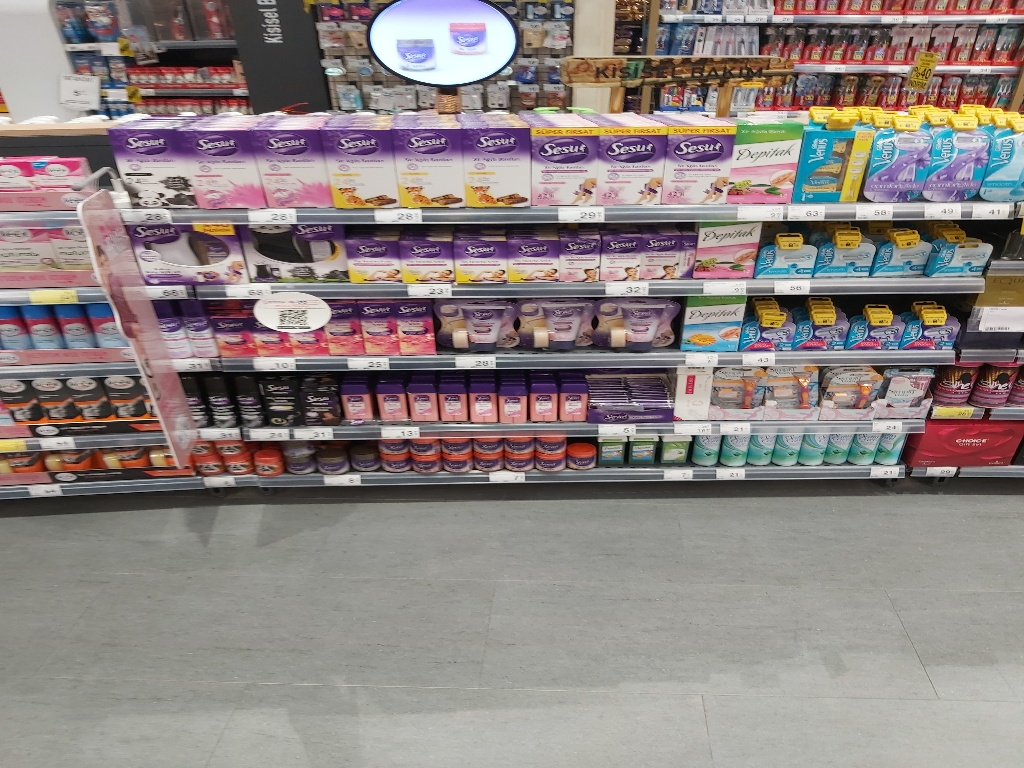urun: (188, 113, 268, 210), (253, 115, 333, 212), (326, 115, 399, 214), (394, 111, 467, 210), (458, 111, 531, 210), (593, 111, 666, 210), (730, 110, 803, 209), (527, 114, 600, 212), (662, 114, 735, 212), (129, 224, 246, 285), (239, 219, 349, 283), (797, 118, 874, 204), (865, 118, 940, 200), (940, 122, 1014, 204), (915, 415, 1024, 467), (596, 298, 673, 355), (520, 298, 596, 355), (443, 296, 520, 352), (869, 221, 933, 282), (691, 223, 755, 283), (755, 219, 819, 279), (812, 223, 876, 283), (933, 220, 997, 280), (343, 223, 402, 288), (399, 219, 458, 284), (452, 220, 511, 285), (680, 296, 746, 353), (744, 294, 803, 355), (846, 294, 905, 355), (792, 293, 851, 353), (901, 292, 960, 352), (762, 364, 826, 411), (823, 361, 887, 408), (710, 361, 765, 415), (509, 223, 557, 283), (599, 225, 644, 285), (643, 224, 687, 284), (557, 221, 598, 285), (881, 362, 933, 408), (675, 364, 714, 424), (324, 297, 362, 355), (361, 298, 398, 356), (397, 298, 434, 356), (102, 369, 141, 424), (251, 294, 285, 355), (266, 371, 300, 430), (55, 302, 92, 356), (938, 360, 979, 407), (980, 357, 1021, 404), (215, 300, 247, 360), (339, 374, 374, 428), (300, 372, 334, 426), (1, 376, 37, 426), (68, 372, 101, 424), (35, 375, 68, 426), (236, 375, 265, 430), (160, 301, 186, 361), (184, 302, 210, 362), (29, 303, 58, 356), (1, 303, 27, 362), (408, 376, 439, 424), (467, 380, 498, 428), (376, 378, 407, 425), (530, 375, 561, 422), (557, 375, 588, 422), (438, 375, 468, 422), (497, 379, 527, 426), (626, 434, 659, 471), (594, 435, 627, 472), (879, 430, 908, 470), (797, 431, 826, 471), (206, 380, 232, 424), (847, 429, 876, 468), (769, 426, 797, 466), (822, 429, 850, 468), (746, 429, 774, 468), (722, 428, 750, 467), (694, 428, 722, 467), (658, 431, 685, 471), (253, 451, 287, 477), (535, 449, 566, 475), (503, 434, 539, 456), (567, 447, 598, 472), (536, 433, 567, 458), (468, 436, 503, 457), (407, 436, 442, 457), (372, 440, 407, 461), (408, 453, 443, 474), (468, 451, 503, 471), (439, 438, 474, 458), (375, 456, 410, 476), (436, 452, 471, 472), (312, 452, 347, 472), (503, 453, 534, 470)
urun2: (110, 114, 189, 211)
